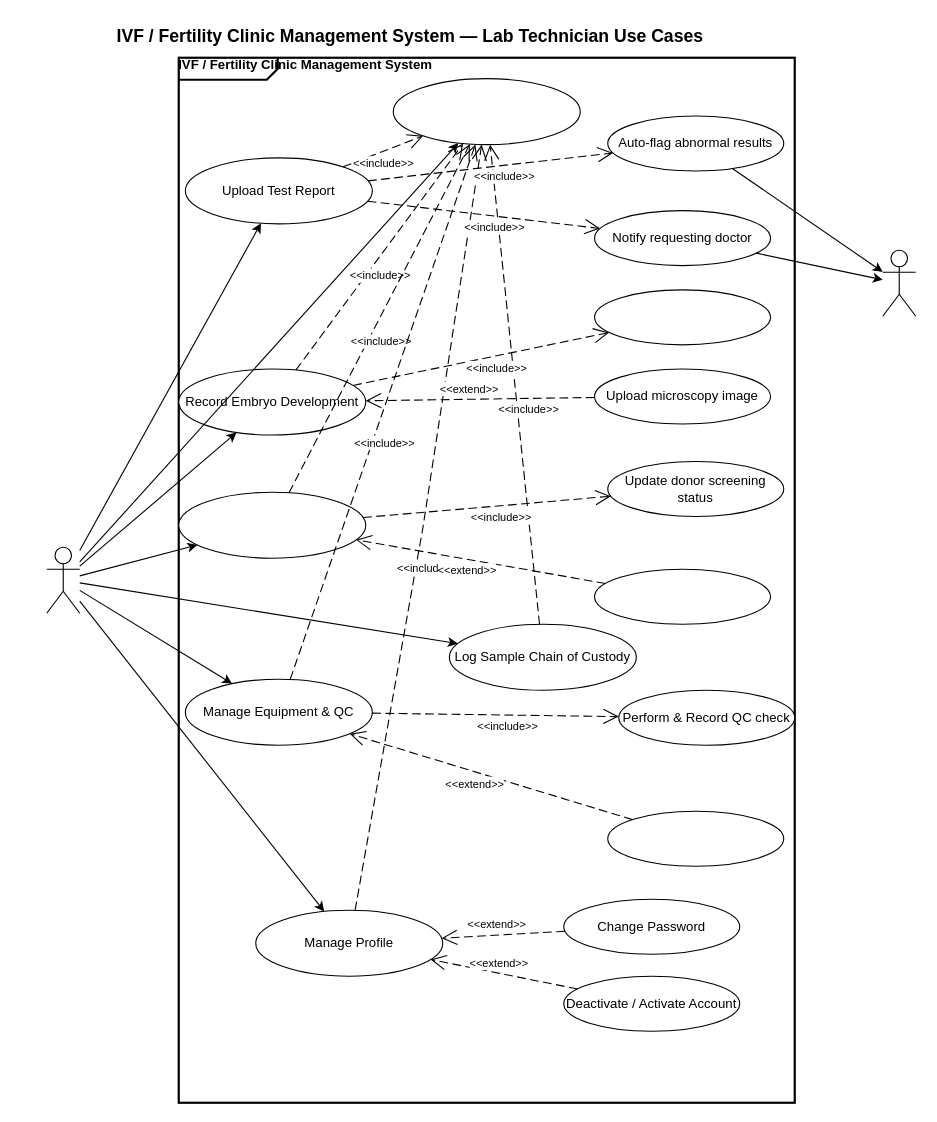
Some shapes in this 937 by 1122 pixel diagram are drawn without their labels. The box of each missing label's shape, as (x1, y1, x2, y2) in pixels:
Authenticate / Login: (392, 78, 580, 145)
Doctor: (882, 249, 916, 316)
Lab Technician: (46, 546, 80, 613)
Manage Donation Bank Stock: (178, 491, 366, 558)
Record cryopreservation: (593, 289, 771, 345)
Schedule preventive maintenance: (607, 810, 784, 866)
Send low-stock alert: (593, 568, 771, 624)
